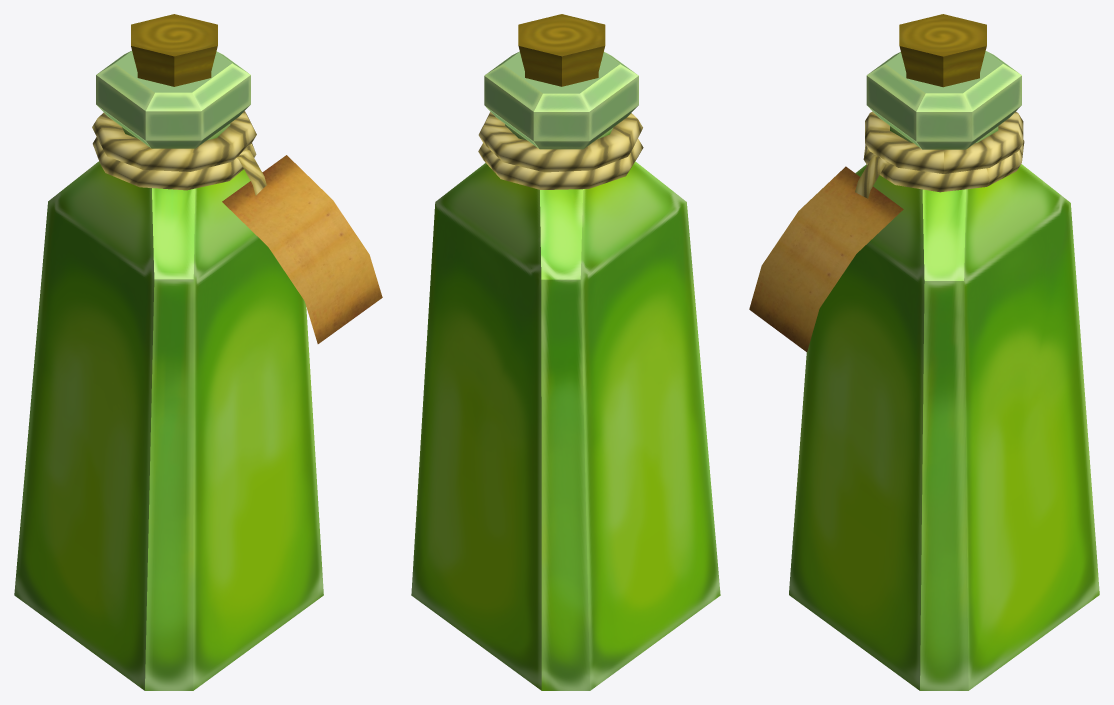
The model's file is bottle_new.fbx.
The picture shows the model from 3 angles, left to right: view 1: azimuth 30°, elevation 25°; view 2: azimuth 150°, elevation 25°; view 3: azimuth 270°, elevation 25°; orthographic projection.
Parts seen in each view (by area): view 1: bottle_009; view 2: bottle_009; view 3: bottle_009.
Part boxes in pixels (x1=…): bottle_009: x1=14, y1=14, x2=382, y2=690; bottle_009: x1=411, y1=14, x2=720, y2=690; bottle_009: x1=749, y1=14, x2=1099, y2=690.
Bounding box in the file's own units: 11.21 × 27.41 × 14.44.
